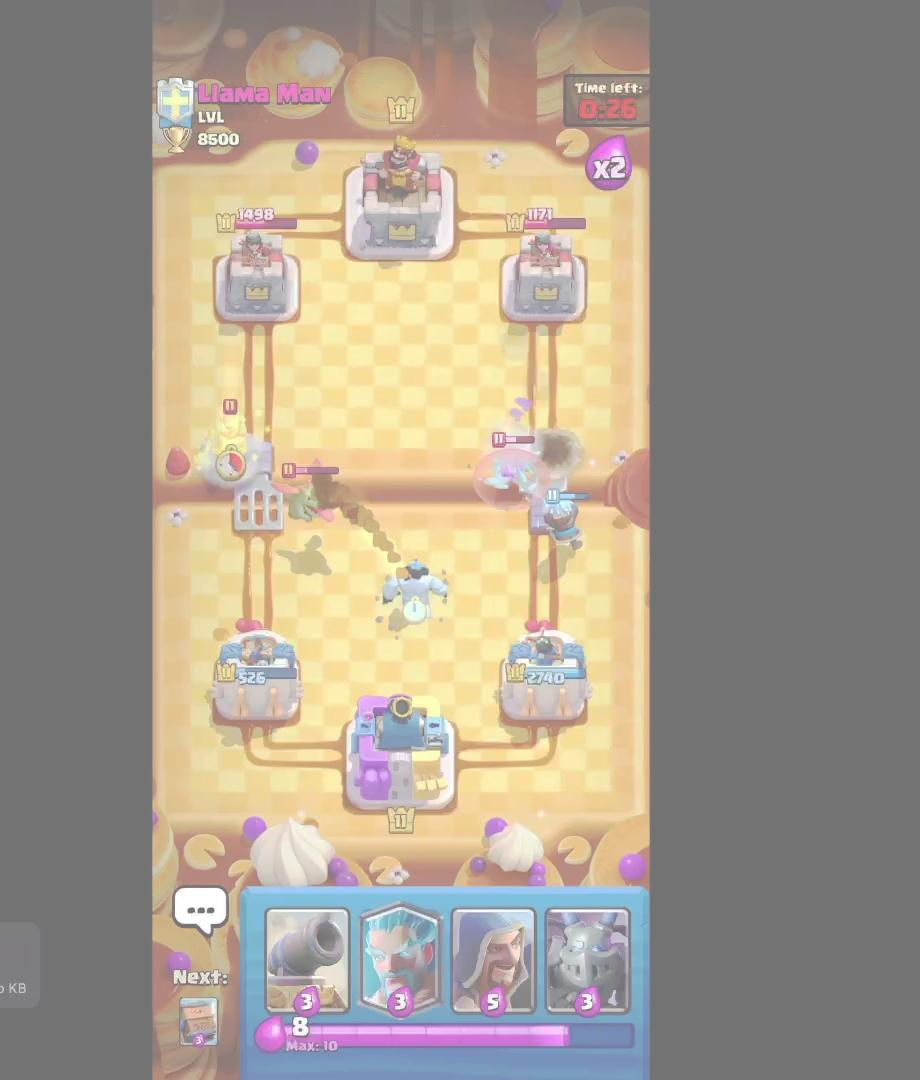Baby Dragon: (262, 454, 379, 539)
Hog Rider: (195, 394, 264, 483)
Valkyrie: (485, 423, 542, 488)
